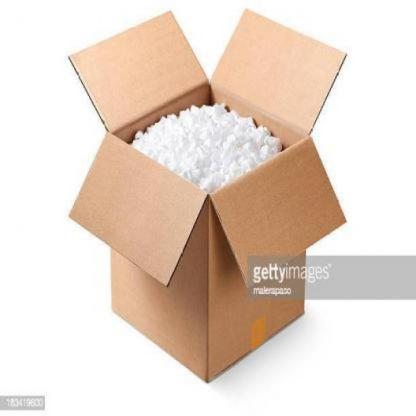-: (60, 4, 357, 386)
